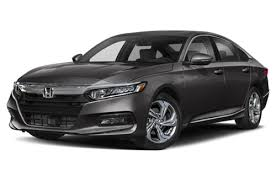Honda: (10, 29, 269, 148)
